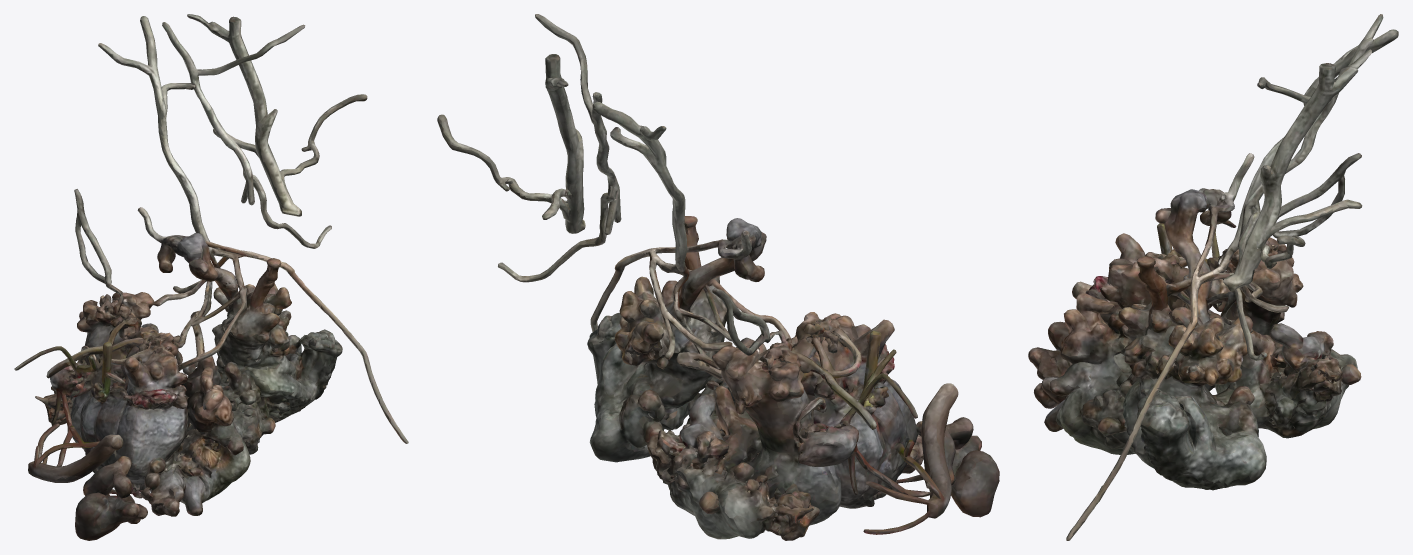
File: fallen-twig-v12.glb
The picture shows the model from 3 angles, left to right: view 1: azimuth 30°, elevation 25°; view 2: azimuth 150°, elevation 25°; view 3: azimuth 270°, elevation 25°; orthographic projection. The views are drawn at different scales.
Visible parts, largest first — view 1: geometry_0; view 2: geometry_0; view 3: geometry_0.
Boxes of the visible parts, left/top/right/bottom form: geometry_0: left=14, top=14, right=408, bottom=540; geometry_0: left=437, top=14, right=999, bottom=540; geometry_0: left=1028, top=14, right=1398, bottom=540.
Bounding box in the file's own units: 0.9502 × 0.9497 × 0.6755.
Materials: 1 (1 with a texture image).
